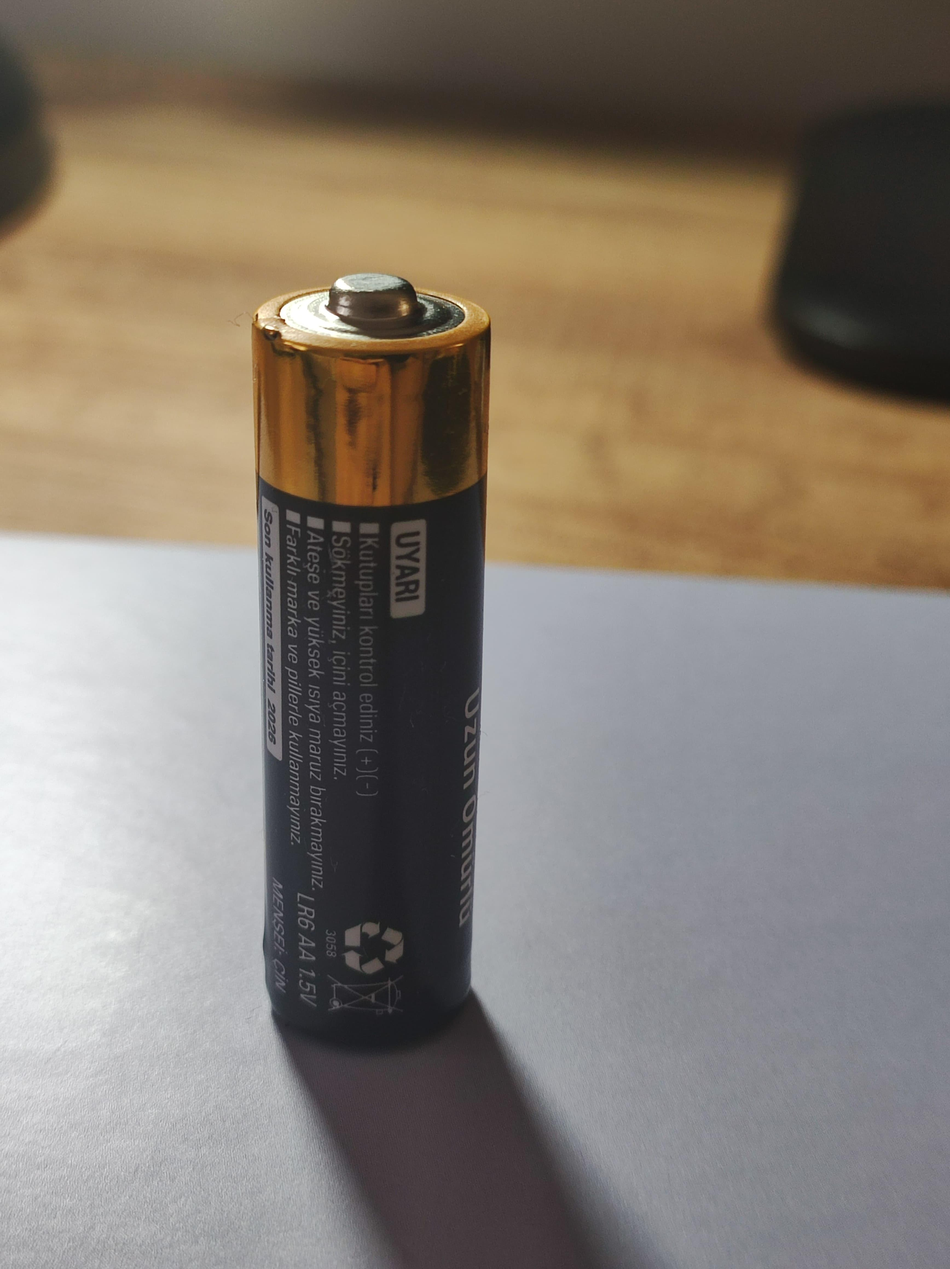AA: (249, 270, 491, 1063)
